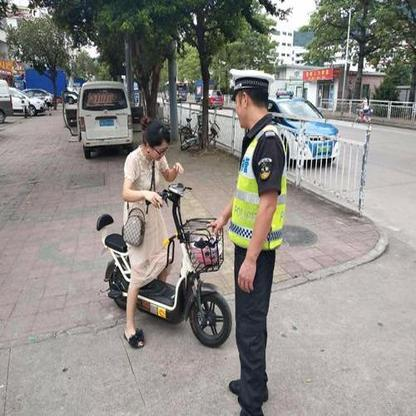target: (95, 118, 233, 353)
